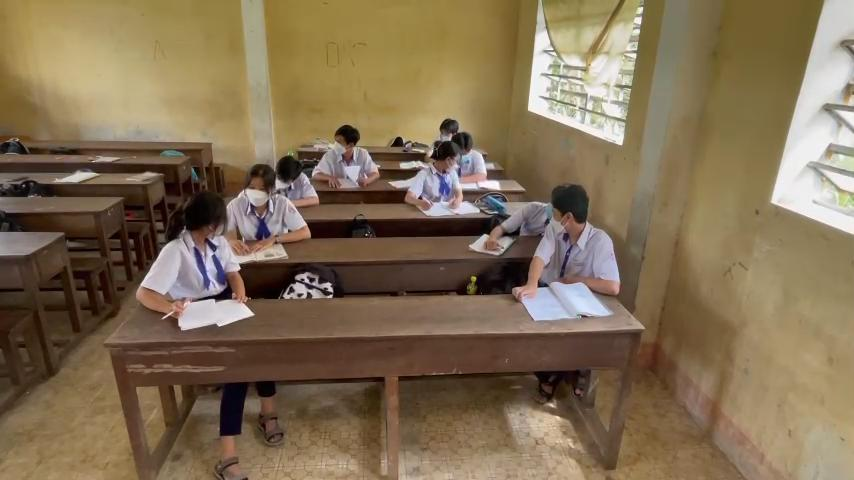Look Around: (168, 183, 231, 244), (537, 179, 599, 240), (317, 118, 371, 163), (412, 136, 466, 181)
